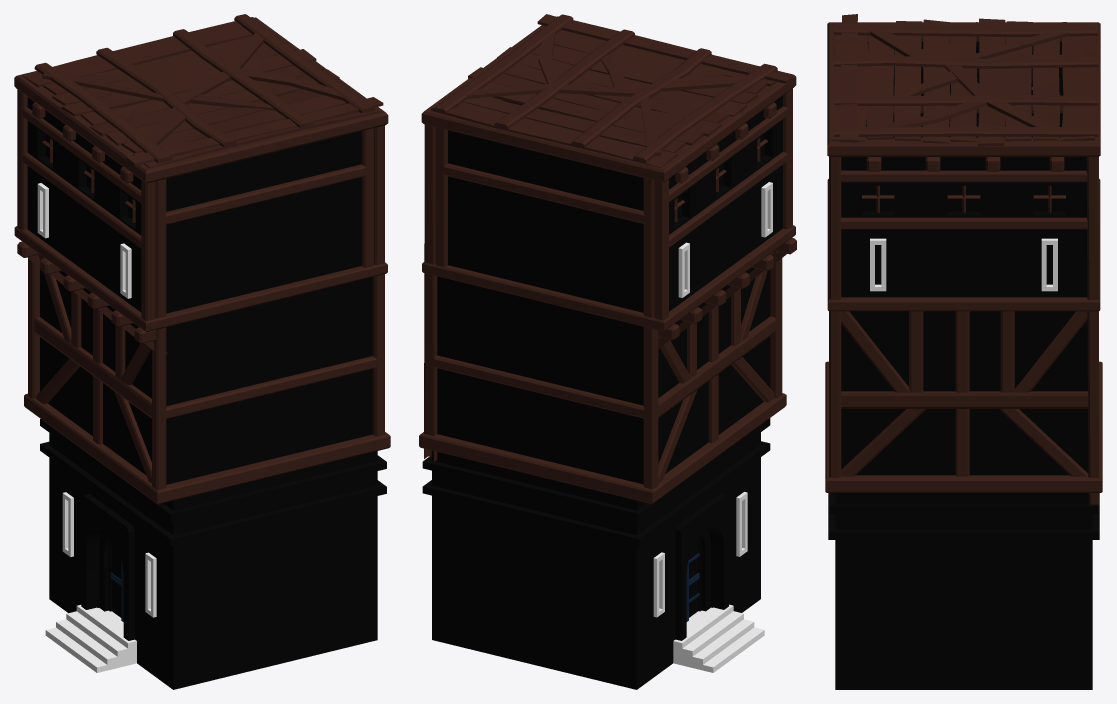
Rendered from civilian_house_26.FBX.
The picture shows the model from 3 angles, left to right: view 1: azimuth 30°, elevation 25°; view 2: azimuth 150°, elevation 25°; view 3: azimuth 270°, elevation 25°; orthographic projection. The views are drawn at different scales.
Visible parts, largest first — view 1: civilian_house_26; view 2: civilian_house_26; view 3: civilian_house_26.
Boxes of the visible parts, x1,y1,x2,y2 form: civilian_house_26: [14, 14, 390, 689]; civilian_house_26: [419, 14, 796, 689]; civilian_house_26: [825, 14, 1102, 689].
Size of the model in its own units: 612 by 1238 by 560.
